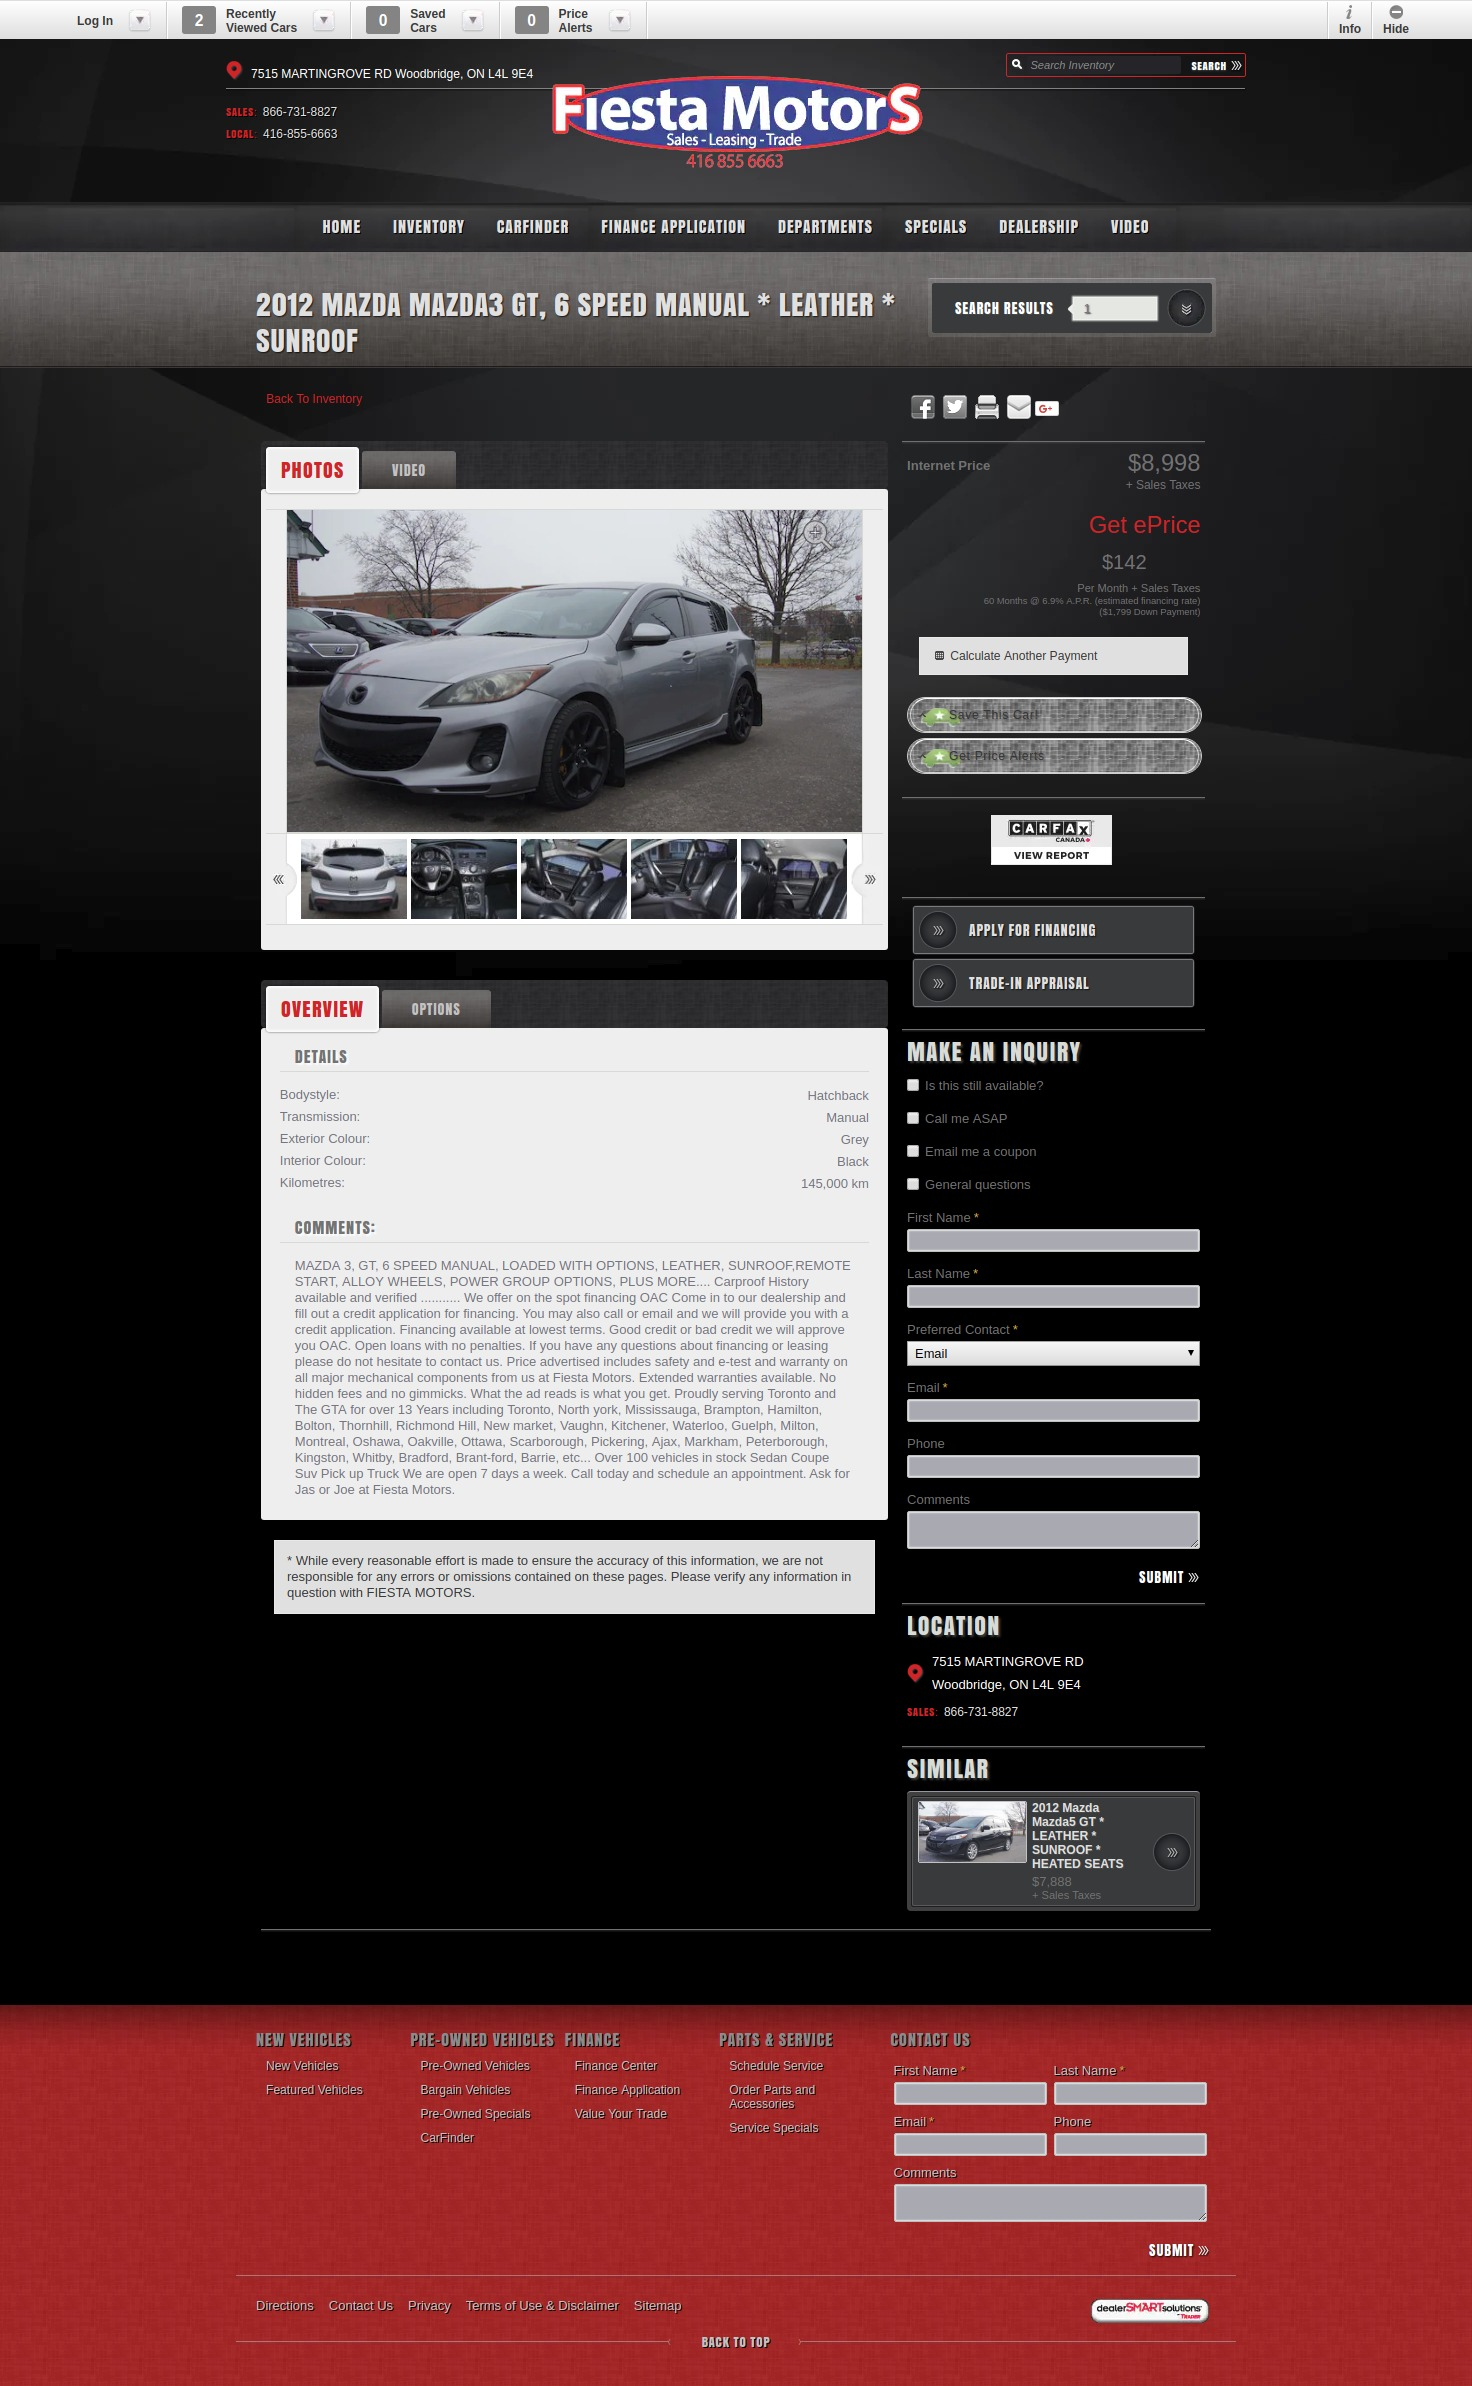car: (864, 874, 877, 885)
